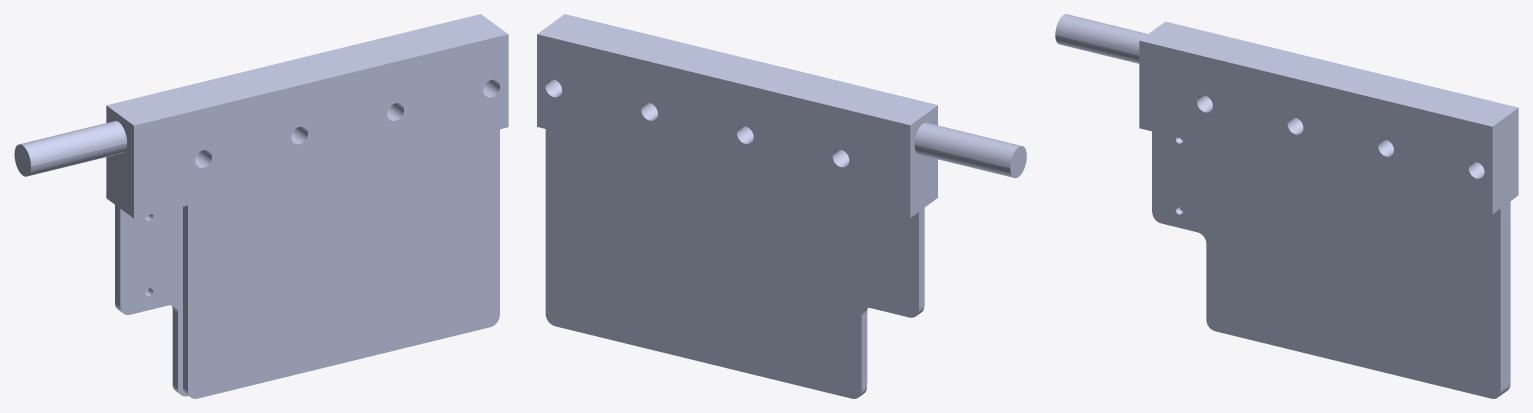
File: MUA-3.glb
3 views of the same model, side by side, from view 1: azimuth 30°, elevation 25°; view 2: azimuth 150°, elevation 25°; view 3: azimuth 330°, elevation 25° (orthographic). The views are drawn at different scales.
Parts seen in each view (by area): view 1: MUA-3_node_1; view 2: MUA-3_node_1; view 3: MUA-3_node_1.
Boxes of the visible parts, x1,y1,x2,y2 form: MUA-3_node_1: (14, 14, 508, 398); MUA-3_node_1: (537, 14, 1026, 398); MUA-3_node_1: (1055, 14, 1518, 398).
Size of the model in its own units: 98 by 59.1 by 10.
